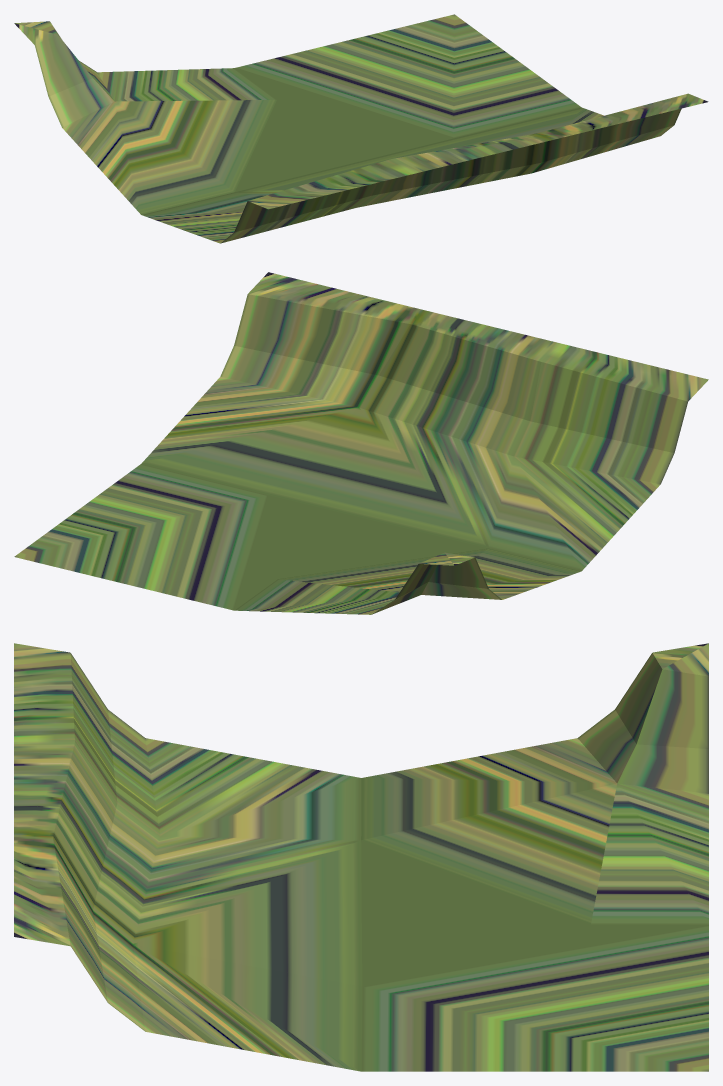
Rendered from Mesh_WaterTileTLeft.fbx.
3 views of the same model, one above another, from view 1: azimuth 30°, elevation 25°; view 2: azimuth 150°, elevation 25°; view 3: azimuth 270°, elevation 25° (orthographic). The views are drawn at different scales.
Visible parts, largest first — view 1: WaterTileTLeft; view 2: WaterTileTLeft; view 3: WaterTileTLeft.
Part boxes in pixels (x1,y1,x2,y2): WaterTileTLeft: (14, 14, 708, 243); WaterTileTLeft: (14, 272, 708, 614); WaterTileTLeft: (14, 643, 708, 1071).
Size of the model in its own units: 10000 by 2140 by 10000.
